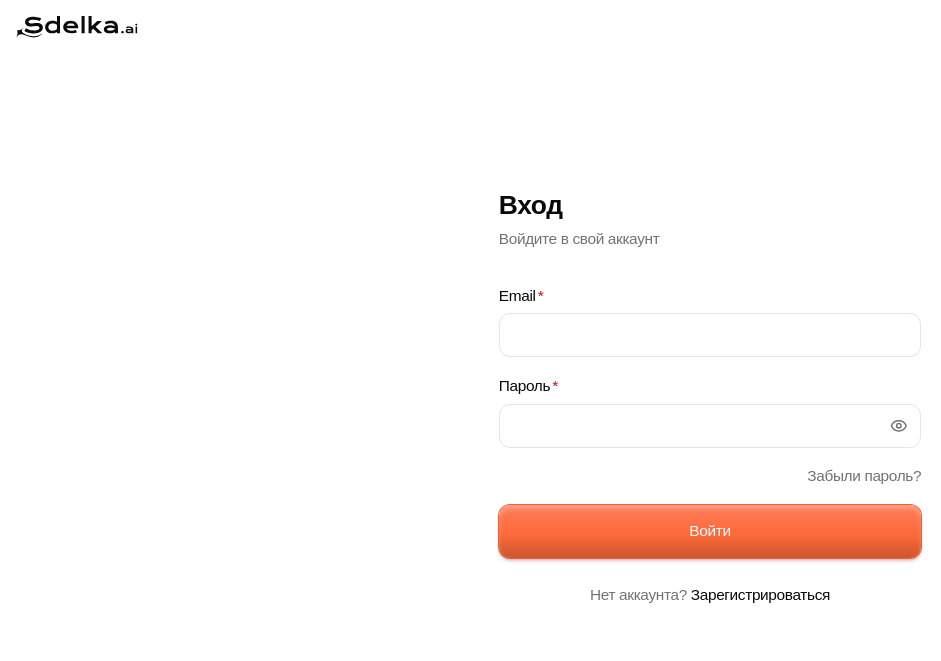
Test case: LoginPage › repeat 429 with the same Retry-After restarts the throttle countdown
Type "a@b.com" into the field labelled "Email" at (710, 335), box [499,313,921,357]
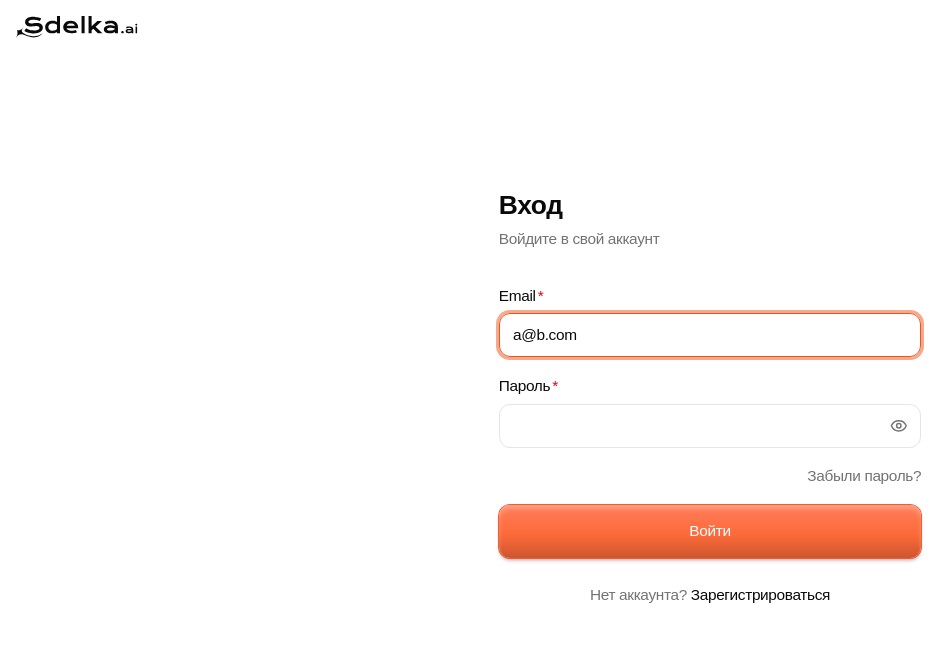
Type "pass1234" into the password field labelled "Пароль" at (710, 426), box [499,404,921,448]
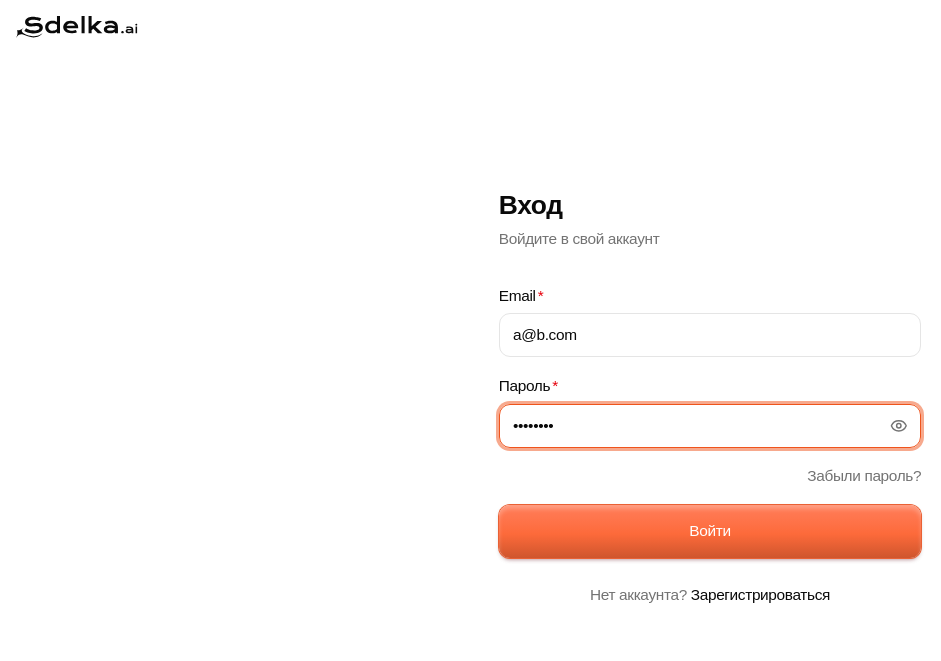
Click the button "Войти" at (710, 531), box [499,505,921,558]
Wait 2000 ms
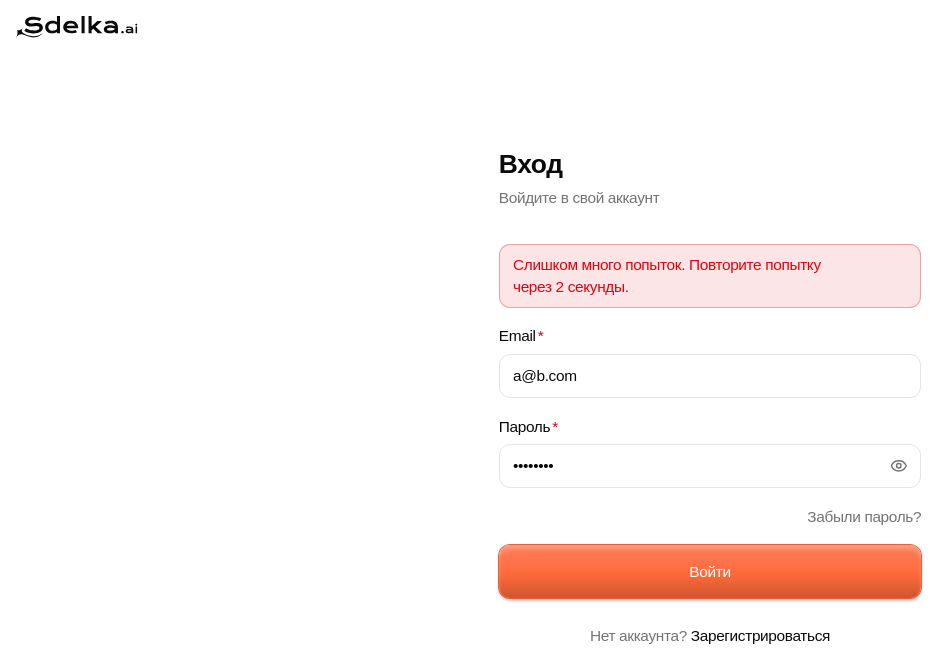
Second 429 with the same retryAfter must restart the countdown.
Click the button "Войти" at (710, 572), box [499,545,921,598]
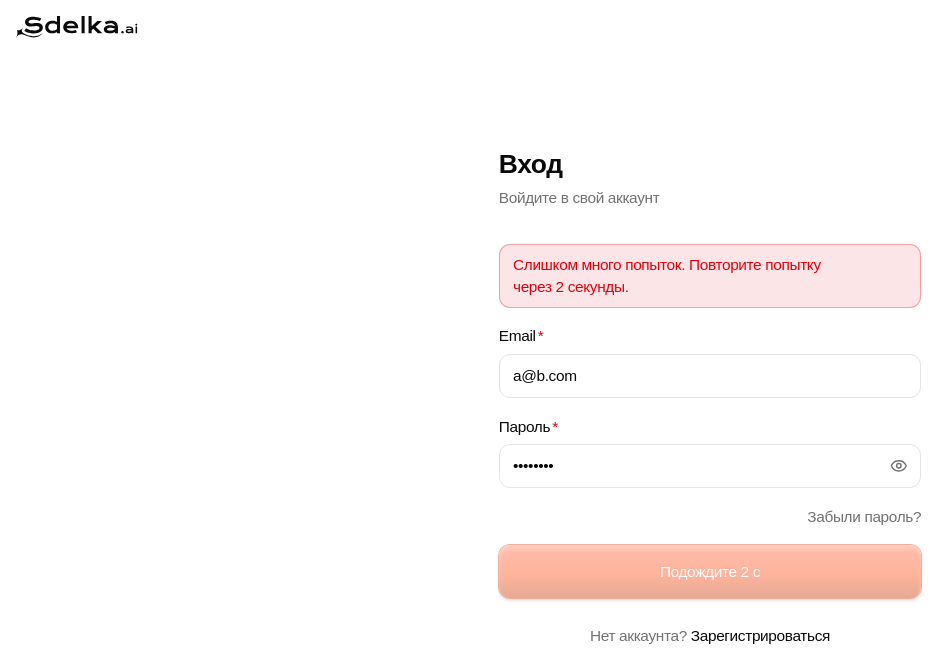
Now the button "Подождите 2 с" is shown, box [499,545,921,598]
